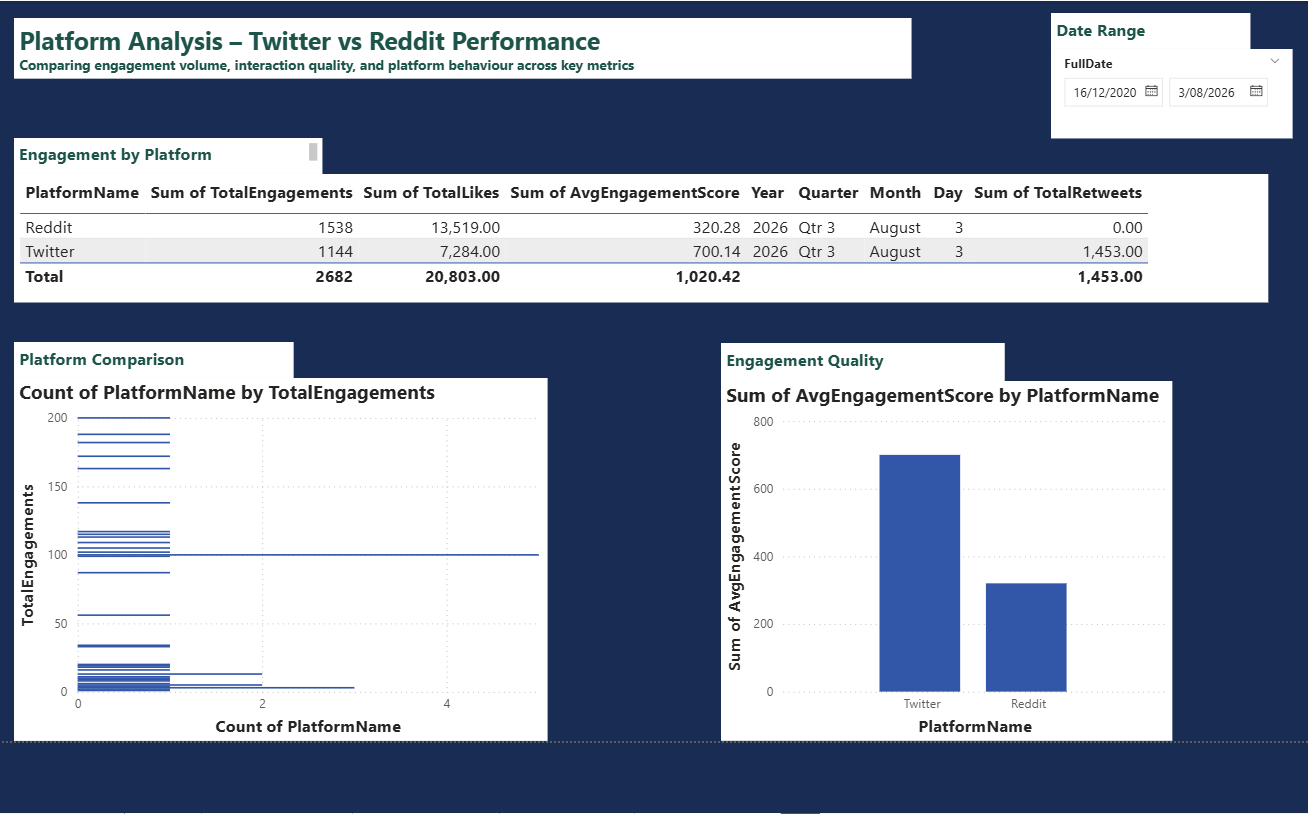

The page's visual inventory and layout, read from the dashboard file:
{"tool":"powerbi","page":{"name":"Token drill-through (Currency details)","canvas":[1280,720],"ordinal":2},"visuals":[{"type":"actionButton","box":[0,0,100,40],"z":0},{"type":"lineChart","fields":{"Category":["vw_timeseries.FullDate"],"Y":["Sum(vw_timeseries.TotalEngagements)"]},"box":[50.1,157.6,420,300],"z":1000},{"type":"donutChart","fields":{"Category":["vw_socialanalytics.PlatformName"],"Y":["Sum(vw_socialanalytics.TotalEngagements)"]},"box":[633.1,162.1,400.3,295.5],"z":2000},{"type":"tableEx","fields":{"Values":["vw_socialanalytics.PlatformName","Sum(vw_socialanalytics.TotalLikes)","Sum(vw_socialanalytics.TotalComments)","Sum(vw_socialanalytics.TotalRetweets)","Sum(vw_socialanalytics.AvgEngagementScore)"]},"box":[162.1,552.5,693.1,152.2],"z":3000},{"type":"textbox","box":[43,2.7,969.9,37.6],"z":4000},{"type":"textbox","box":[50.1,125.4,300,32.2],"z":5000},{"type":"textbox","box":[633.1,125.4,283,36.7],"z":6000},{"type":"textbox","box":[162.1,514,300,38.5],"z":7000}]}

Visuals, with their boxes on the page's 1280x720 design canvas (x1, y1, x2, y2). These are canvas units, not pixel positions in the 1308x814 screenshot, which may show the page scaled, cropped or inside an application window:
actionButton: bbox(0, 0, 100, 40)
lineChart - vw_timeseries.FullDate x Sum(vw_timeseries.TotalEngagements): bbox(50, 158, 470, 458)
donutChart - vw_socialanalytics.PlatformName x Sum(vw_socialanalytics.TotalEngagements): bbox(633, 162, 1033, 458)
tableEx - vw_socialanalytics.PlatformName x Sum(vw_socialanalytics.TotalLikes): bbox(162, 552, 855, 705)
textbox: bbox(43, 3, 1013, 40)
textbox: bbox(50, 125, 350, 158)
textbox: bbox(633, 125, 916, 162)
textbox: bbox(162, 514, 462, 552)
